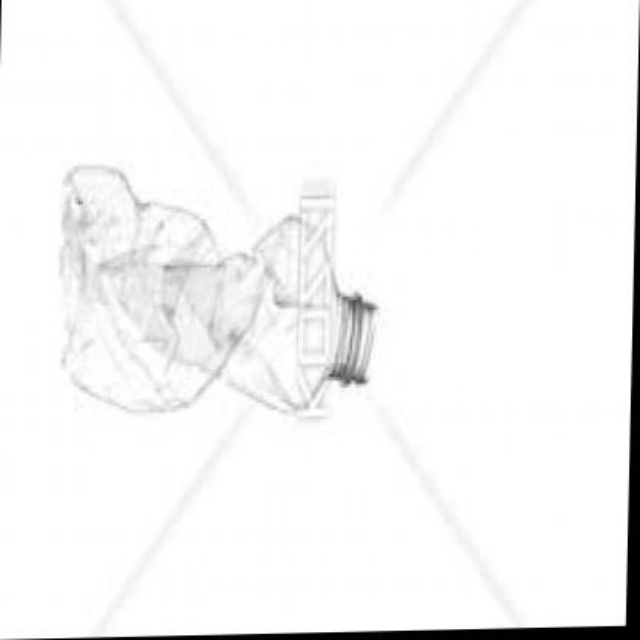trash: (62, 166, 374, 409)
